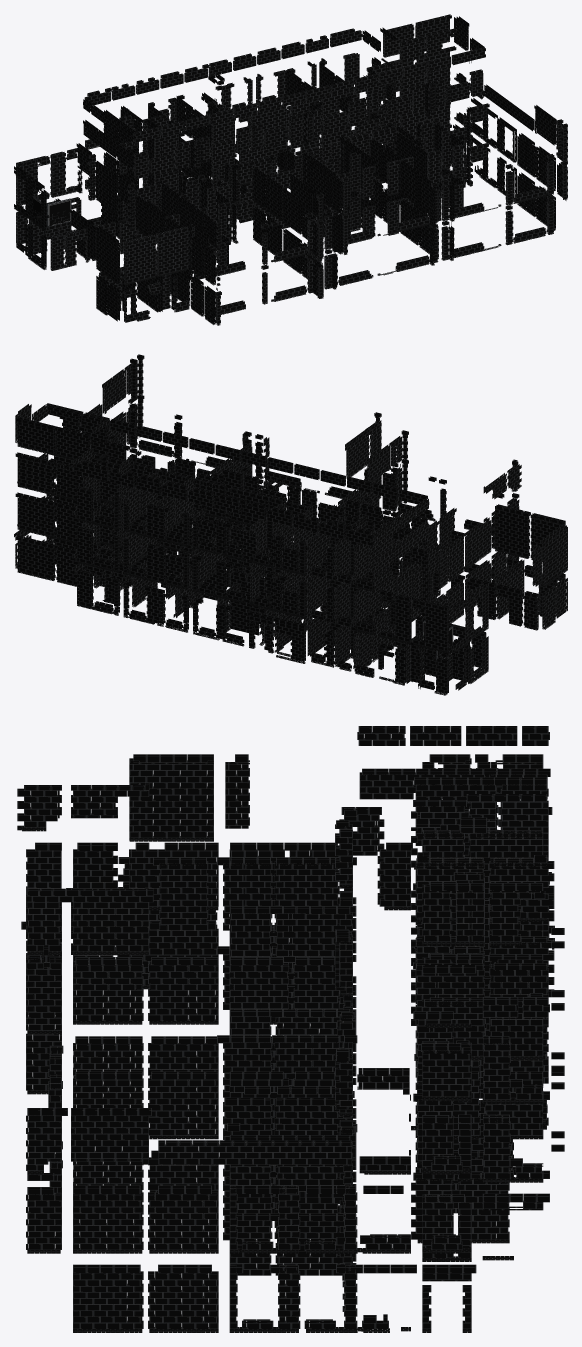
Rendered from edges.glb.
The picture shows the model from 3 angles, top to bottom: view 1: azimuth 30°, elevation 25°; view 2: azimuth 150°, elevation 25°; view 3: azimuth 270°, elevation 25°; orthographic projection. The views are drawn at different scales.
Visible parts, largest first — view 1: E_F02, E_F01, E_F03, E_F04; view 2: E_F02, E_F03, E_F01, E_F04; view 3: E_F02, E_F03, E_F01, E_F04.
Boxes of the visible parts, x1,y1,x2,y2 form: E_F02: (14,84,567,285); E_F01: (16,124,555,325); E_F03: (14,51,567,247); E_F04: (83,14,485,142); E_F02: (15,394,567,653); E_F03: (15,354,567,611); E_F01: (14,448,567,695); E_F04: (15,403,429,545); E_F02: (26,762,564,1253); E_F03: (17,754,564,1174); E_F01: (21,857,564,1332); E_F04: (357,726,549,1100).
Size of the model in its own units: 43.92 by 14.77 by 24.45.
Materials: 1 (1 with a texture image).
